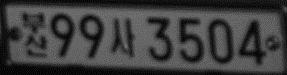0: (207, 18, 234, 64)
3: (145, 16, 174, 62)
4: (238, 19, 267, 64)
5: (178, 16, 204, 62)
9: (78, 14, 105, 59), (50, 12, 76, 57)
부산_V: (22, 11, 49, 58)
사: (109, 18, 135, 57)
